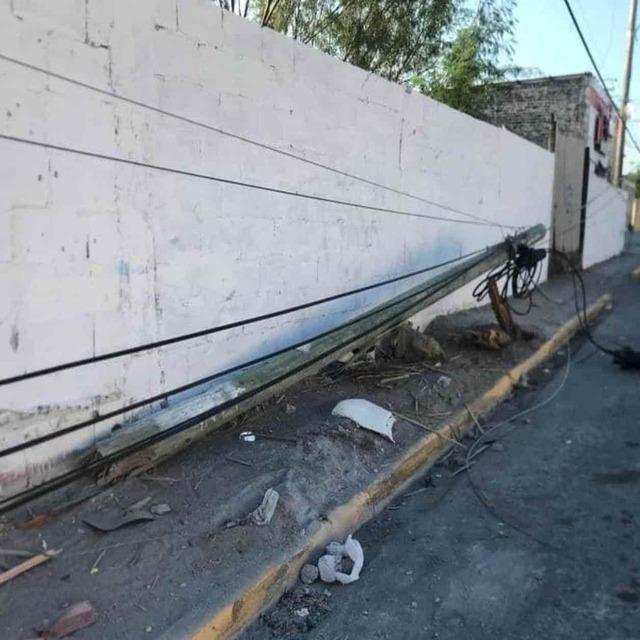Inclined Pole: (63, 218, 555, 491)
